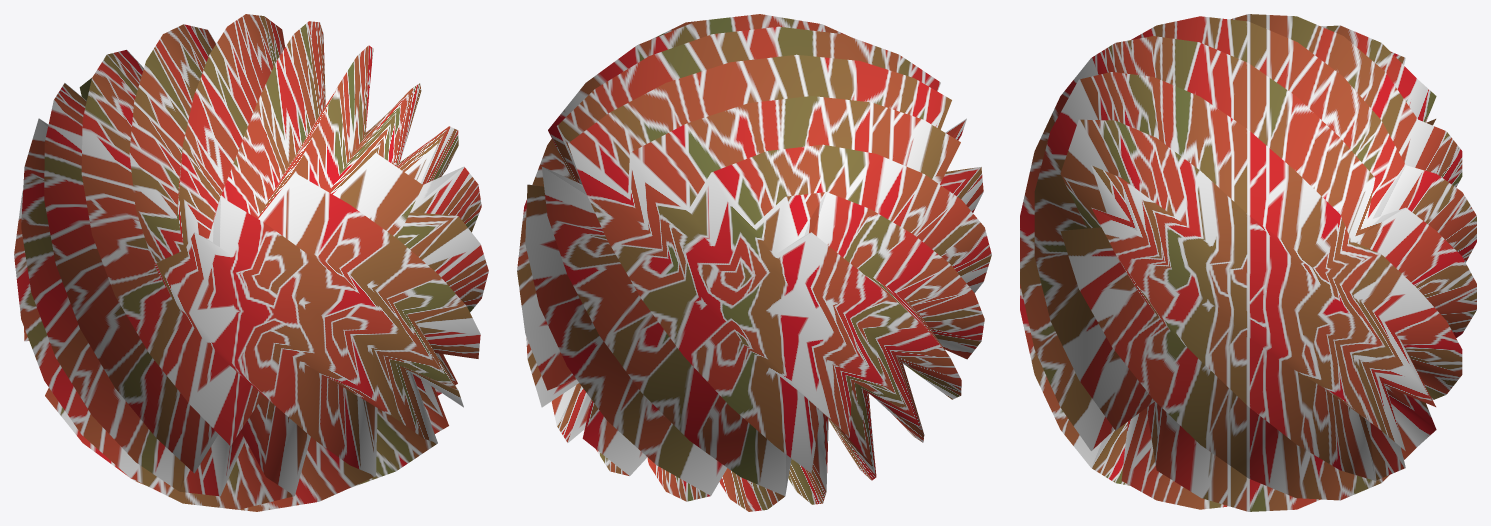
Rendered from Fire_Pick_Up.fbx.
3 views of the same model, side by side, from view 1: azimuth 30°, elevation 25°; view 2: azimuth 150°, elevation 25°; view 3: azimuth 270°, elevation 25° (orthographic).
Parts seen in each view (by area): view 1: Cube.001; view 2: Cube.001; view 3: Cube.001.
Part boxes in pixels (x1,y1,x2,y2): Cube.001: [14, 14, 488, 511]; Cube.001: [517, 14, 991, 511]; Cube.001: [1020, 14, 1476, 511].
Size of the model in its own units: 155 by 165 by 155.
1 material, 1 textured.
